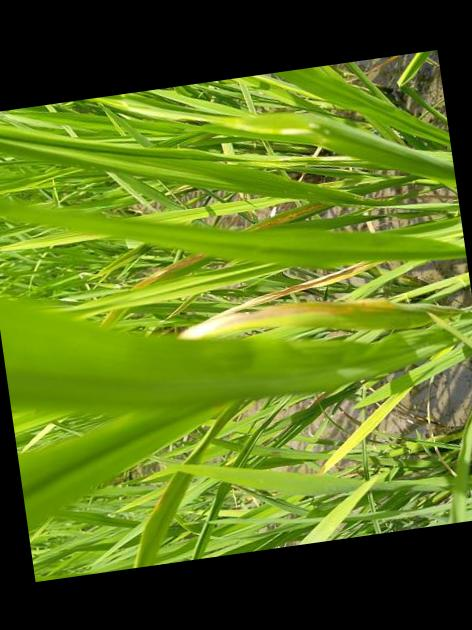Leaf Blight: (180, 297, 396, 338), (133, 252, 227, 288), (242, 200, 333, 230)
